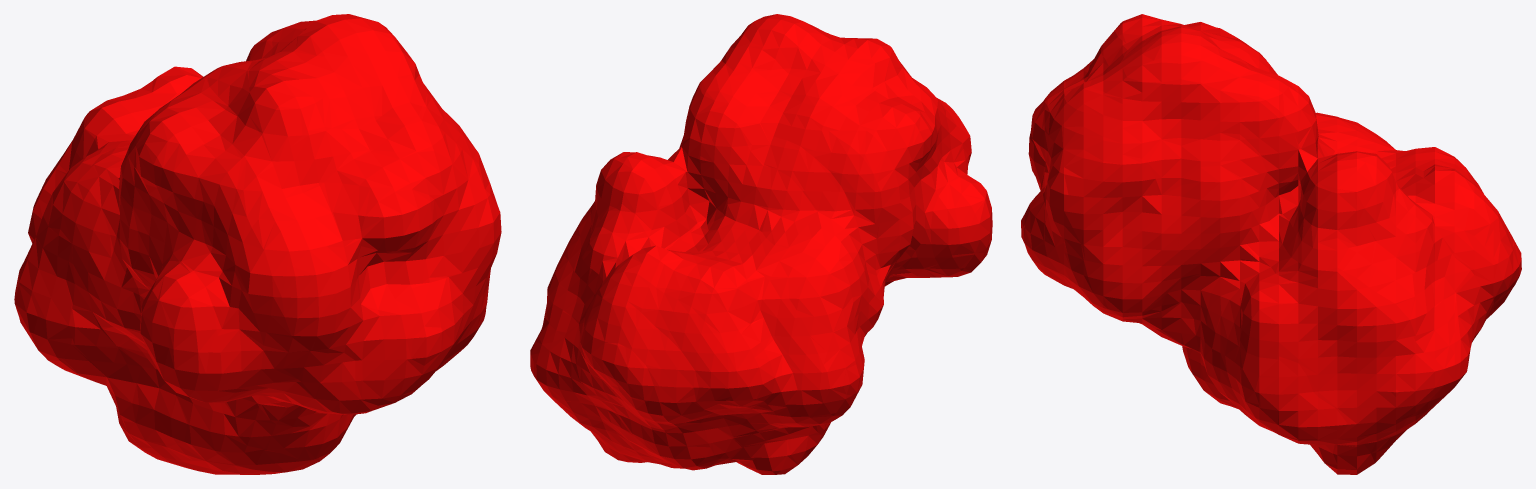
The model's file is glgA_coarse.dae.
3 views of the same model, side by side, from view 1: azimuth 30°, elevation 25°; view 2: azimuth 150°, elevation 25°; view 3: azimuth 270°, elevation 25° (orthographic). The views are drawn at different scales.
Visible parts, largest first — view 1: glgA; view 2: glgA; view 3: glgA.
Boxes of the visible parts, x1=… form: glgA: x1=14, y1=14, x2=501, y2=474; glgA: x1=530, y1=14, x2=992, y2=474; glgA: x1=1021, y1=14, x2=1521, y2=474.
Size of the model in its own units: 54.29 by 64.03 by 72.04.
